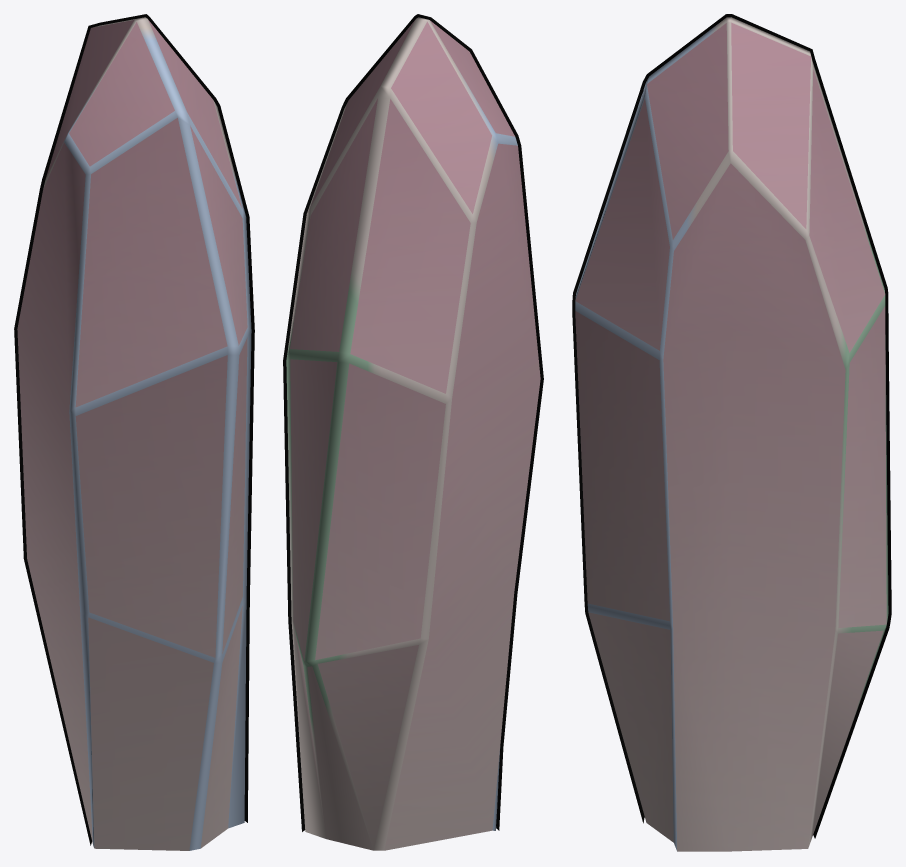
Rendered from Rooms_Paradise_Crystal_Small_01_Art.fbx.
The picture shows the model from 3 angles, left to right: view 1: azimuth 30°, elevation 25°; view 2: azimuth 150°, elevation 25°; view 3: azimuth 270°, elevation 25°; orthographic projection.
Parts seen in each view (by area): view 1: Rooms_Paradise_Crystal_Small_01_Art, Rooms_Paradise_Crystal_Small_01_Outliner; view 2: Rooms_Paradise_Crystal_Small_01_Art, Rooms_Paradise_Crystal_Small_01_Outliner; view 3: Rooms_Paradise_Crystal_Small_01_Art, Rooms_Paradise_Crystal_Small_01_Outliner.
Part boxes in pixels (x1=…): Rooms_Paradise_Crystal_Small_01_Art: x1=17, y1=17, x2=251, y2=850; Rooms_Paradise_Crystal_Small_01_Outliner: x1=14, y1=14, x2=254, y2=845; Rooms_Paradise_Crystal_Small_01_Art: x1=286, y1=17, x2=540, y2=850; Rooms_Paradise_Crystal_Small_01_Outliner: x1=283, y1=14, x2=543, y2=831; Rooms_Paradise_Crystal_Small_01_Art: x1=575, y1=17, x2=888, y2=851; Rooms_Paradise_Crystal_Small_01_Outliner: x1=572, y1=14, x2=891, y2=838.
Size of the model in its own units: 109 by 474 by 172.
